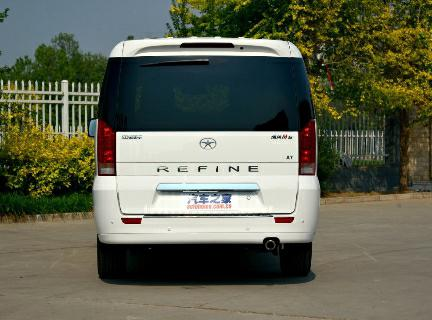江淮-瑞风M5: (86, 37, 323, 280)
